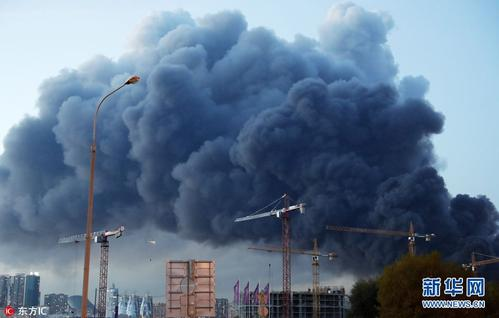smoke: (11, 23, 487, 250)
